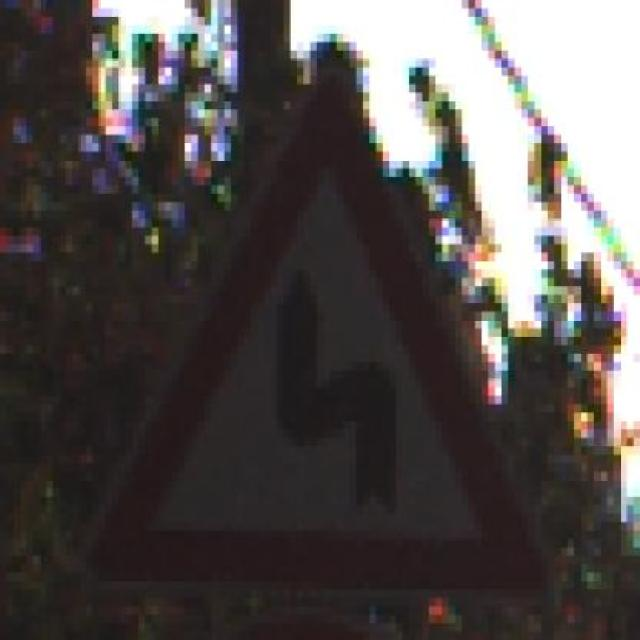Left Zig Zag Traffic: (59, 50, 555, 590)
